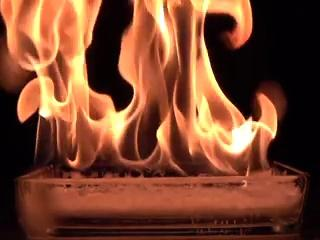Fire: (29, 1, 287, 181)
